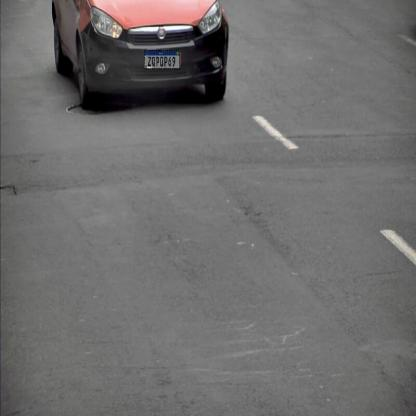PlacaM: (144, 50, 180, 69)
